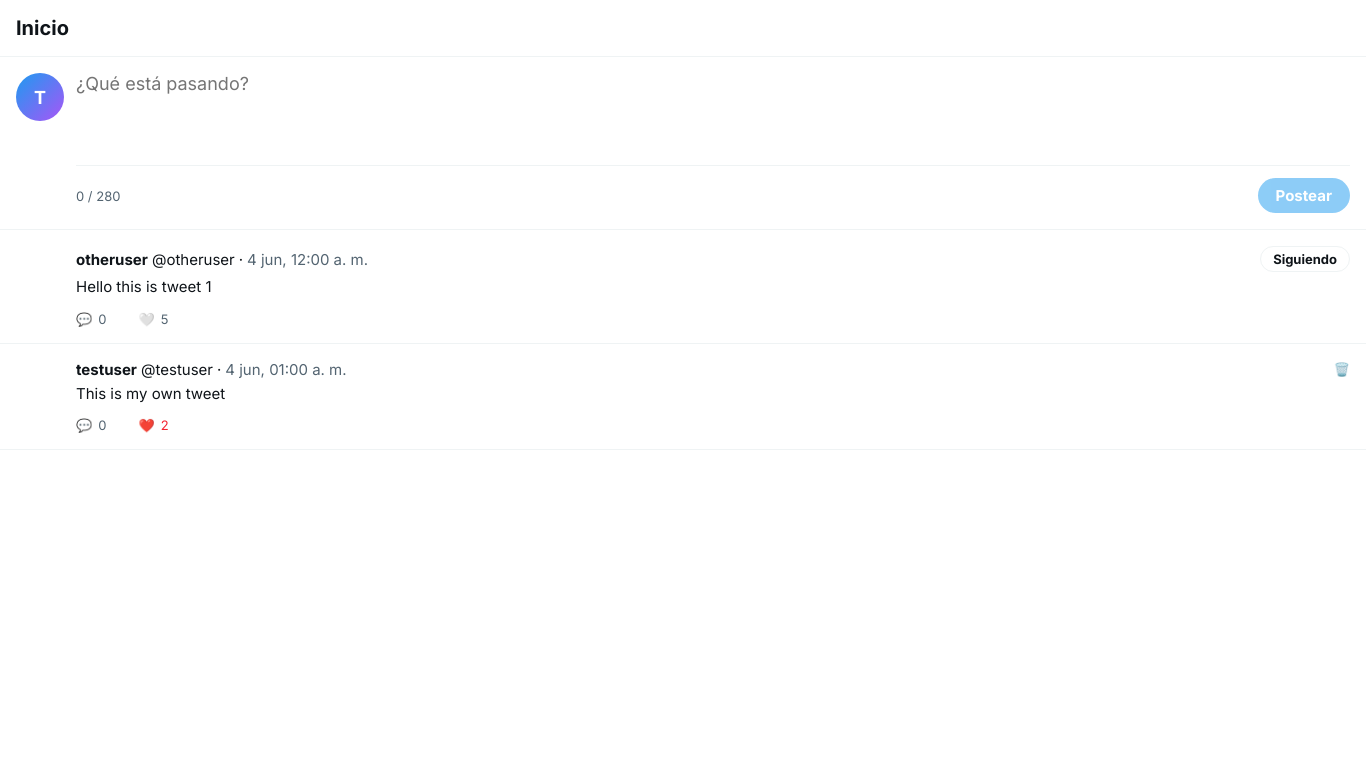
Test: Timeline Component Integration Tests › opens the reply modal when clicking the reply button
Click the button with test id "reply-btn-tweet-1".
click(91, 318)  # box [76,310,106,326]
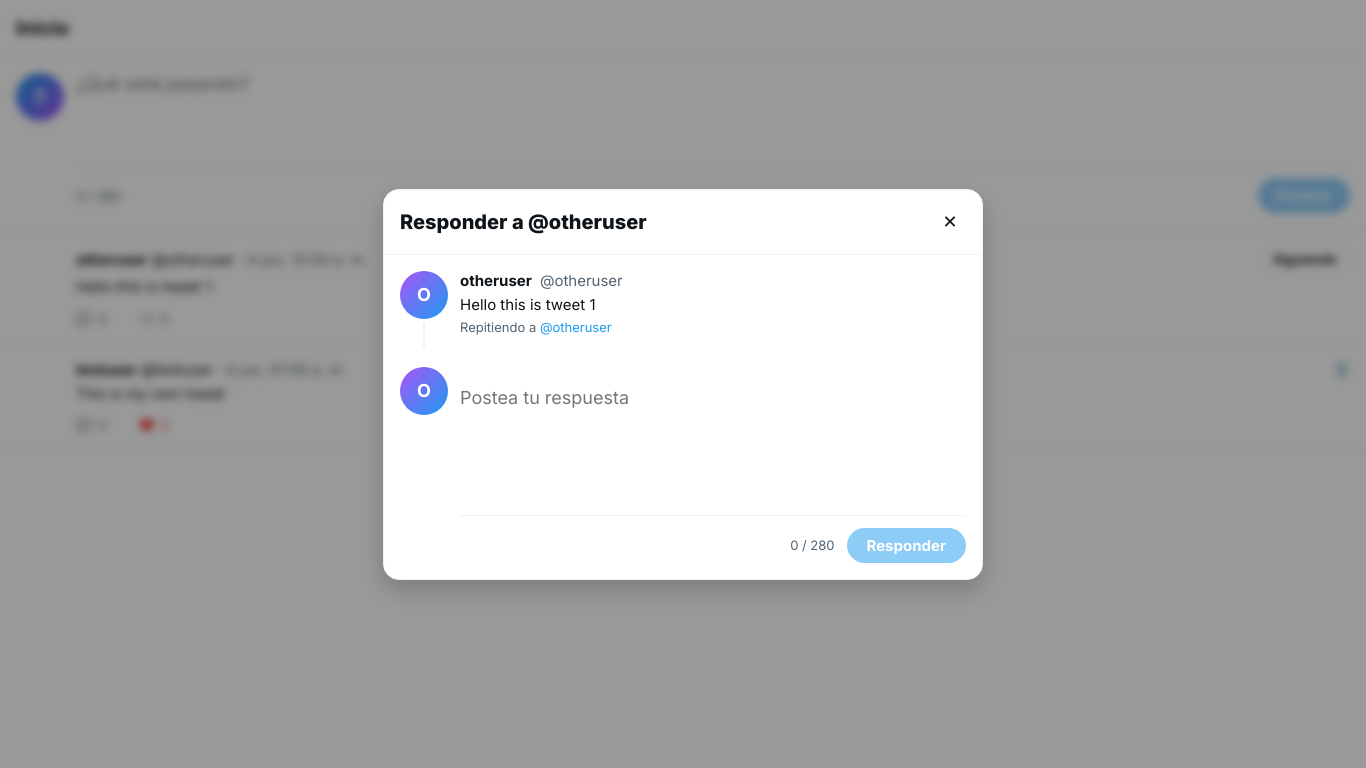
Check: the element with test id "reply-modal" is shown
Check: the heading "Responder a @otheruser" is shown, box [400,210,646,234]
